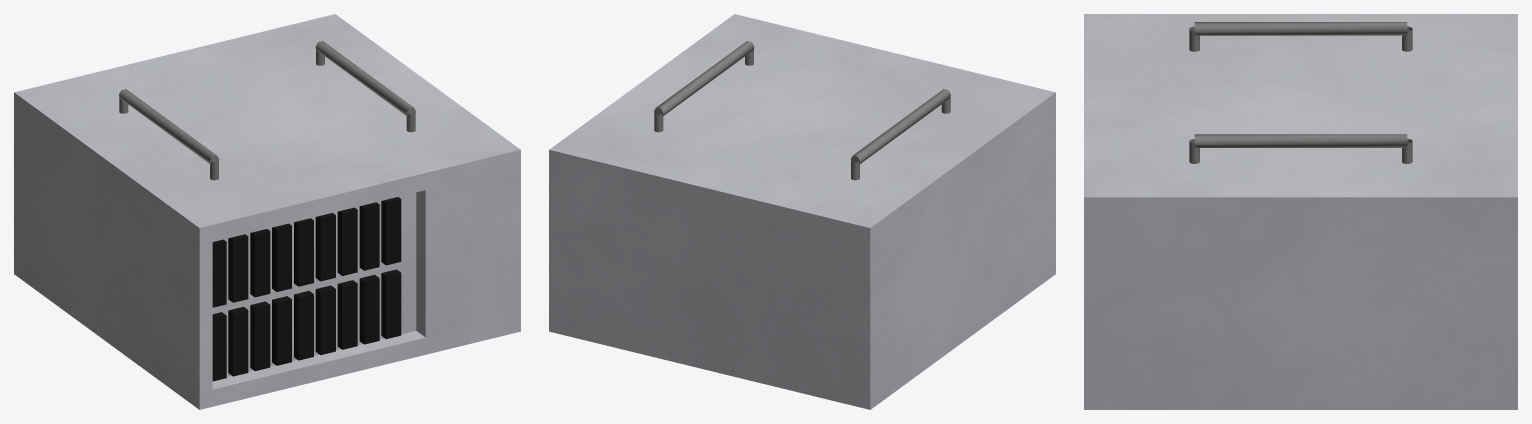
Rendered from power05_battery_l.glb.
The picture shows the model from 3 angles, left to right: view 1: azimuth 30°, elevation 25°; view 2: azimuth 150°, elevation 25°; view 3: azimuth 270°, elevation 25°; orthographic projection. The views are drawn at different scales.
Visible parts, largest first — view 1: battery_case, cell_modules, handles; view 2: battery_case, handles; view 3: battery_case, handles.
Boxes of the visible parts, x1,y1,x2,y2 form: battery_case: (14, 14, 520, 409); cell_modules: (212, 197, 401, 381); handles: (119, 41, 415, 180); battery_case: (549, 14, 1055, 409); handles: (654, 41, 950, 180); battery_case: (1084, 14, 1517, 409); handles: (1189, 22, 1412, 163).
Bounding box in the file's own units: 0.98 × 0.595 × 0.98.
4 materials, 2 textured.
